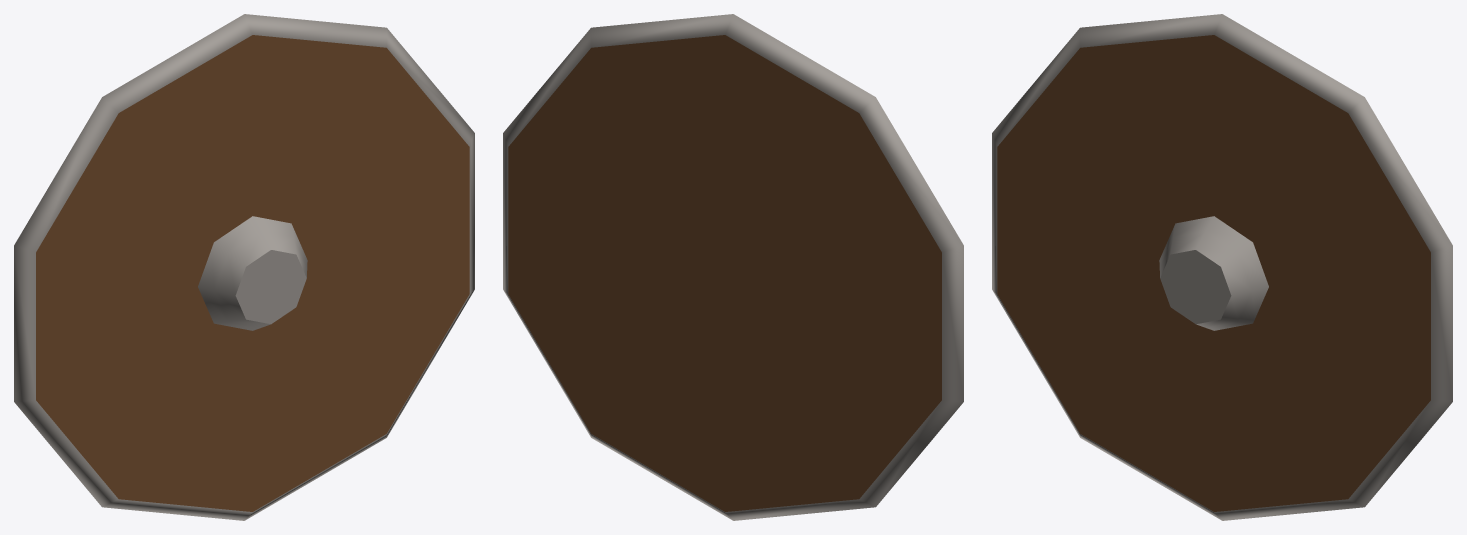
File: bouclier.glb
The picture shows the model from 3 angles, left to right: view 1: azimuth 30°, elevation 25°; view 2: azimuth 150°, elevation 25°; view 3: azimuth 330°, elevation 25°; orthographic projection.
Parts seen in each view (by area): view 1: Planches, Bord, Umbo; view 2: Planches, Bord; view 3: Planches, Bord, Umbo.
Part boxes in pixels (x1,y1,x2,y2): Planches: (36, 35, 469, 511); Bord: (14, 14, 474, 520); Umbo: (198, 216, 307, 330); Planches: (508, 35, 941, 511); Bord: (503, 14, 963, 520); Planches: (997, 35, 1430, 511); Bord: (992, 14, 1452, 520); Umbo: (1159, 216, 1268, 330).
Size of the model in its own units: 0.6467 by 0.68 by 0.085.
